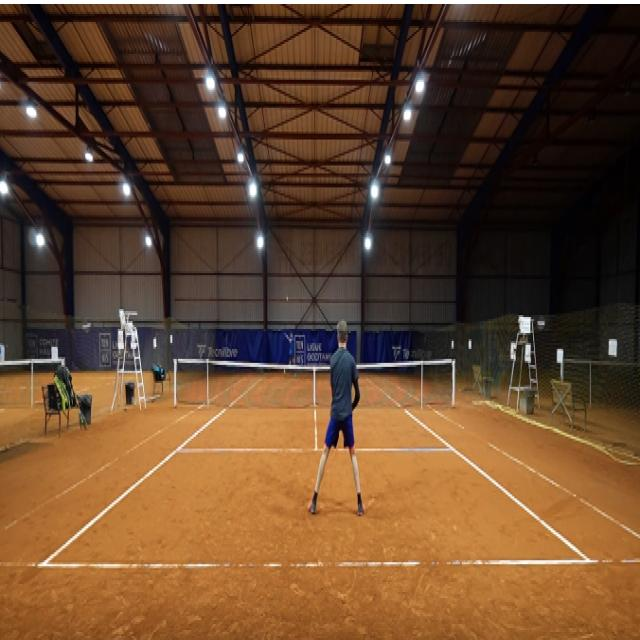ball: (286, 296, 288, 302)
